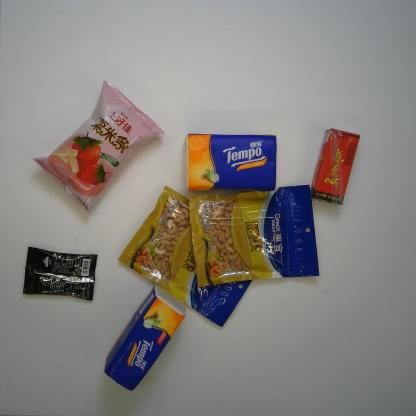Dried Fruit: (117, 184, 253, 328), (188, 184, 320, 289)
Drink: (310, 127, 361, 207)
Instant Drink: (22, 246, 98, 302)
Puffed Food: (32, 78, 166, 216)
Tissue: (103, 284, 187, 392), (181, 132, 278, 192)
